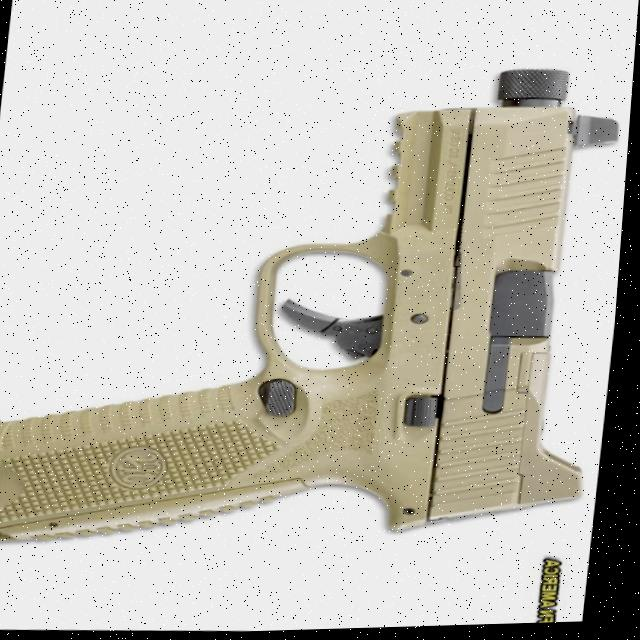pistol: (0, 52, 635, 569)
